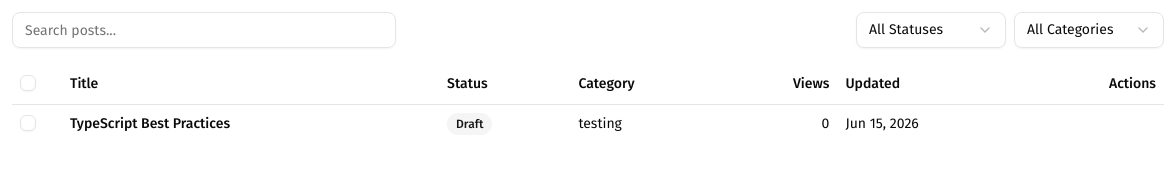
Scenario: BlogPostList › Search Functionality › should show no results message when search matches nothing
Type "NonexistentTopic" into the field with placeholder "Search posts..." at (204,30), box top-left (12, 12), bottom-right (396, 48)
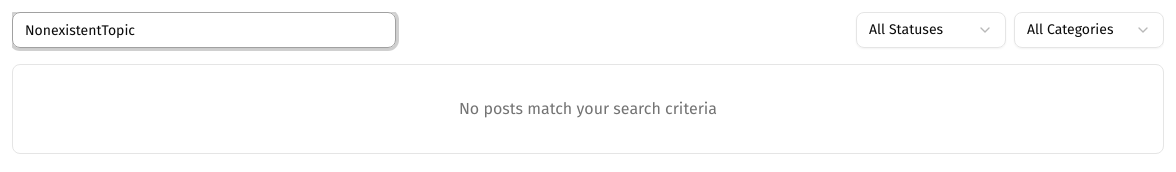
Expected: the text "No posts match your search criteria" is shown, top-left (459, 99), bottom-right (717, 118)
